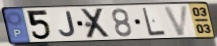5: (25, 9, 54, 41)
8: (111, 8, 134, 38)
J: (58, 11, 77, 38)
L: (141, 6, 167, 37)
V: (162, 5, 191, 37)
X: (80, 7, 113, 40)
